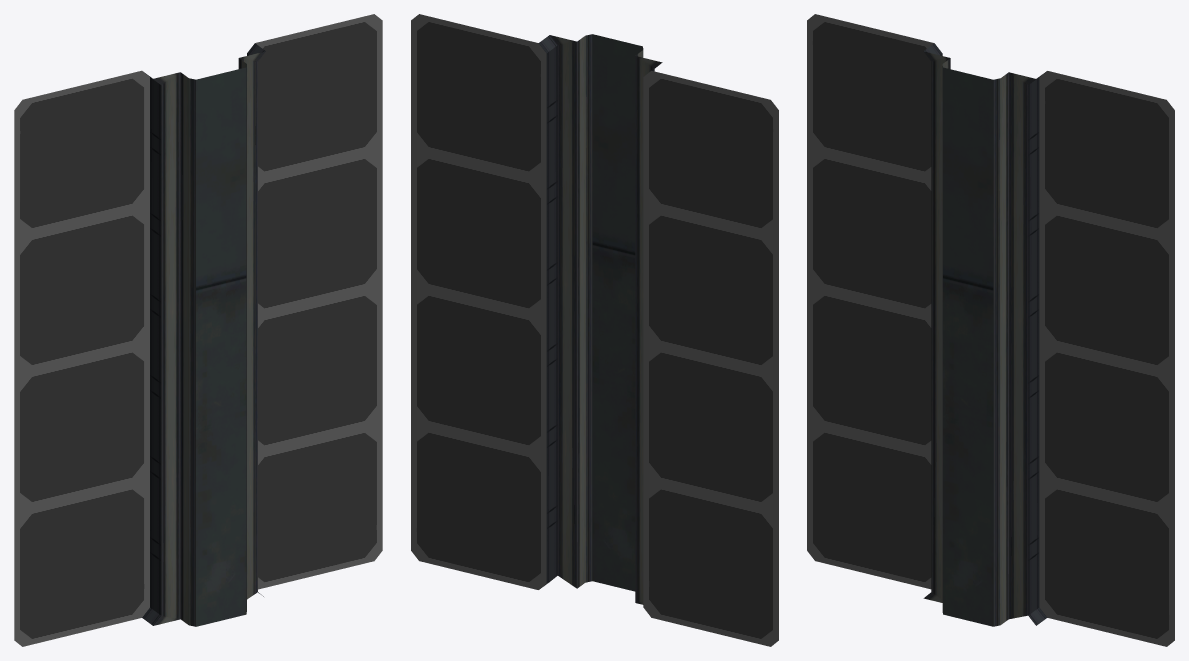
The model's file is doorOut.obj.
The picture shows the model from 3 angles, left to right: view 1: azimuth 30°, elevation 25°; view 2: azimuth 150°, elevation 25°; view 3: azimuth 330°, elevation 25°; orthographic projection.
Parts seen in each view (by area): view 1: spacecamp.001, spacecamp.004, spacecamp.003, spacecamp.002; view 2: spacecamp.001, spacecamp.003, spacecamp.004, spacecamp.002; view 3: spacecamp.001, spacecamp.004, spacecamp.003, spacecamp.002.
Boxes of the visible parts, x1,y1,x2,y2 form: spacecamp.001: (14,14,382,646); spacecamp.004: (196,67,246,626); spacecamp.003: (153,51,265,626); spacecamp.002: (142,43,265,625); spacecamp.001: (411,14,778,646); spacecamp.003: (550,34,662,604); spacecamp.004: (592,34,642,591); spacecamp.002: (539,35,658,588); spacecamp.001: (807,14,1174,646); spacecamp.004: (943,67,993,626); spacecamp.003: (923,51,1035,626); spacecamp.002: (924,43,1047,625).
Bounding box in the file's own units: 4.05 × 5.76 × 0.4352.
Materials: 4 (4 with a texture image).
